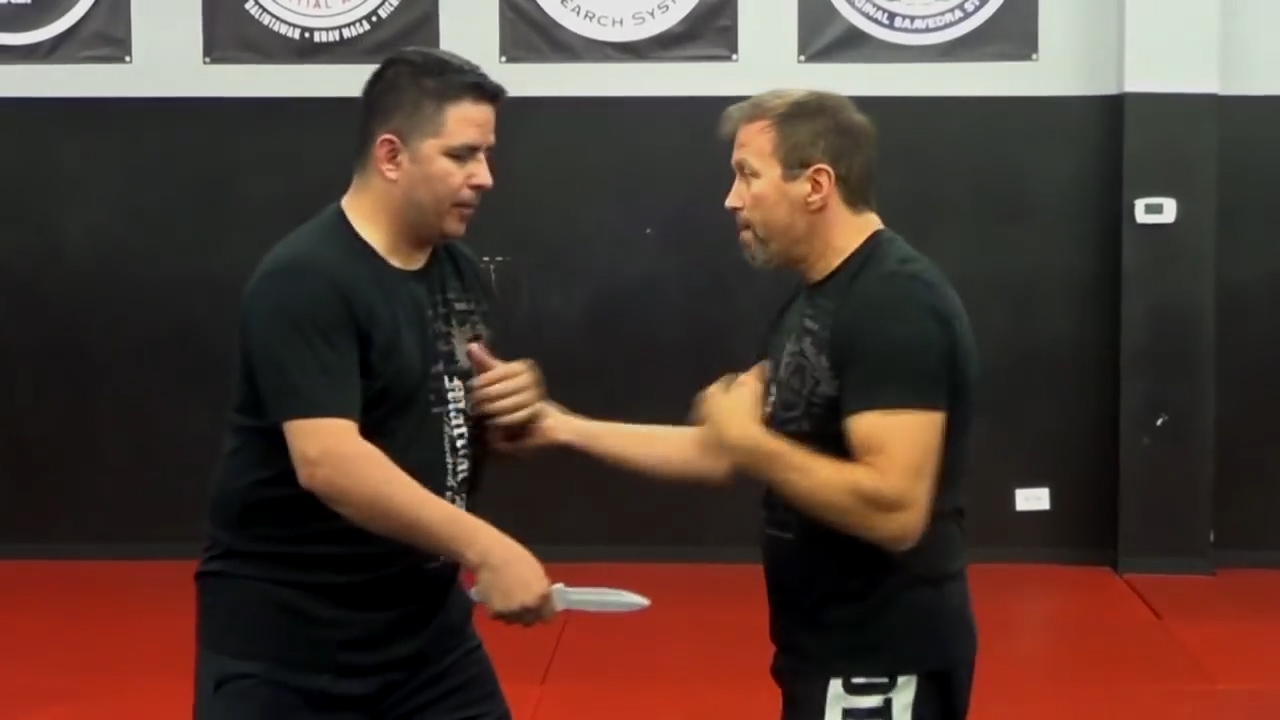knife: (463, 565, 669, 627)
